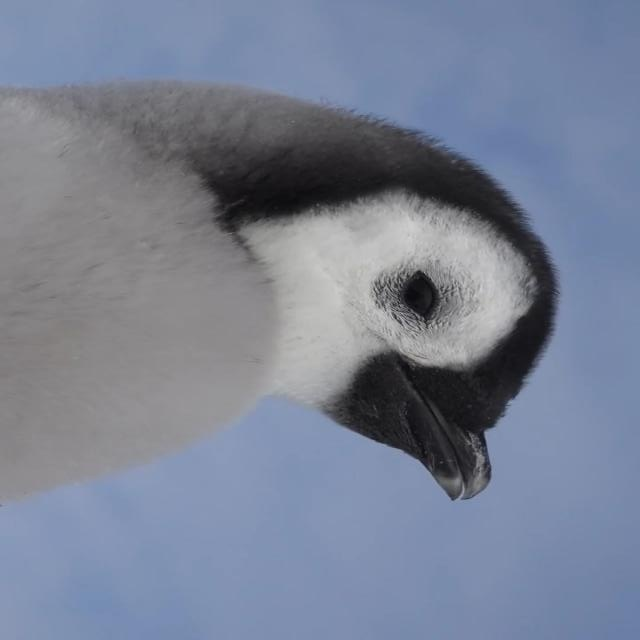penguin: (3, 60, 563, 509)
